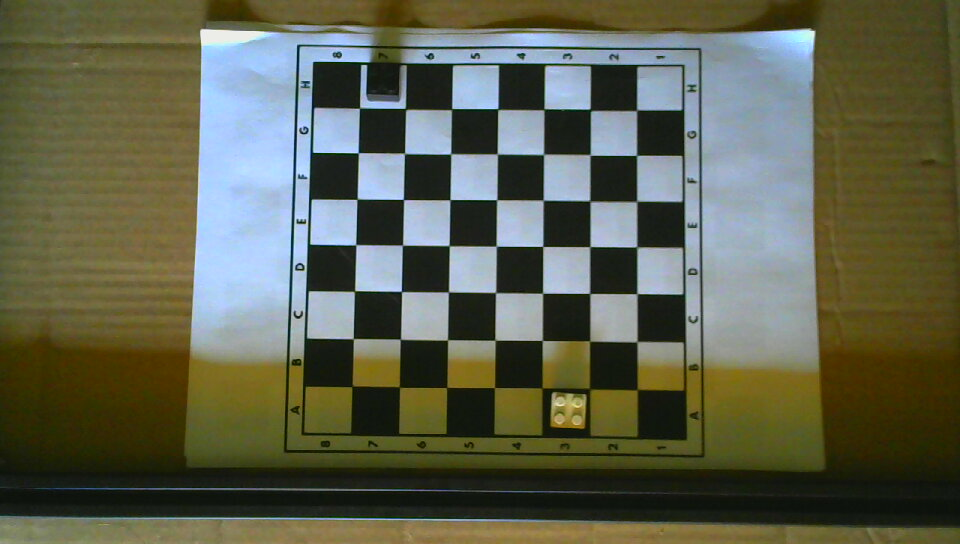bp: (364, 60, 402, 103)
wp: (548, 390, 587, 430)
